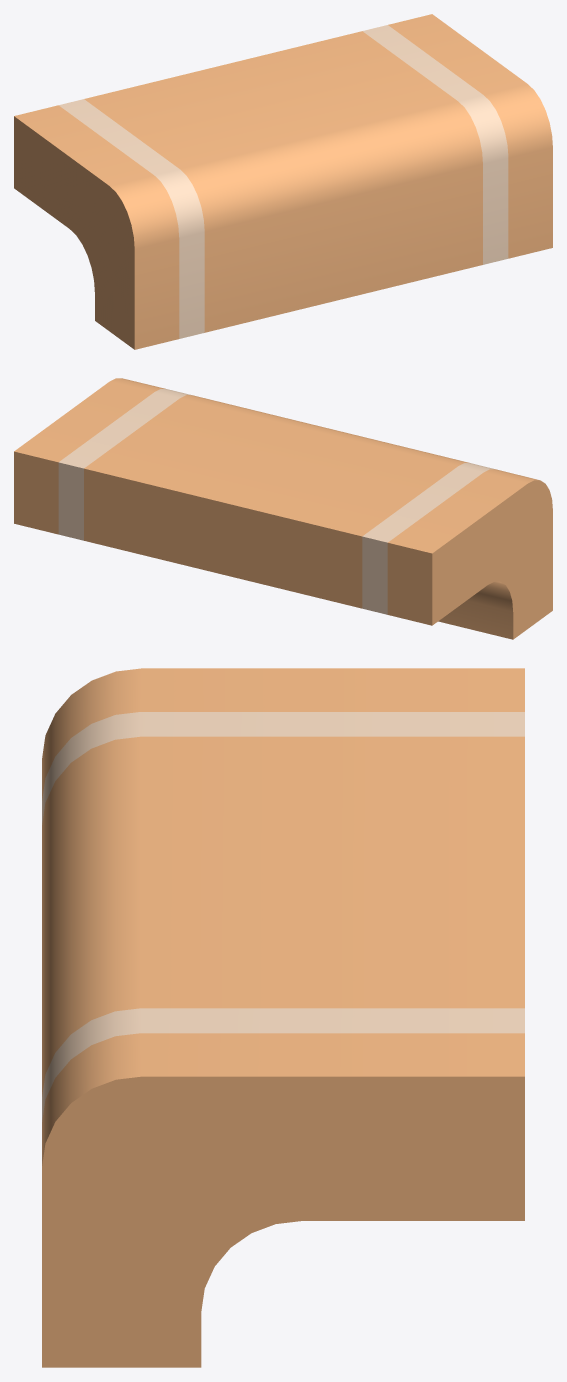
Rendered from Link C L Type.fbx.
3 renders of one model, top to bottom at view 1: azimuth 30°, elevation 25°; view 2: azimuth 150°, elevation 25°; view 3: azimuth 270°, elevation 25°, orthographic. The views are drawn at different scales.
Visible parts, largest first — view 1: Link C L Type; view 2: Link C L Type; view 3: Link C L Type.
Part boxes in pixels (x1,y1,x2,y2): Link C L Type: (14, 14, 552, 349); Link C L Type: (14, 378, 552, 639); Link C L Type: (42, 668, 524, 1367).
Size of the model in its own units: 300 by 99.69 by 150.
